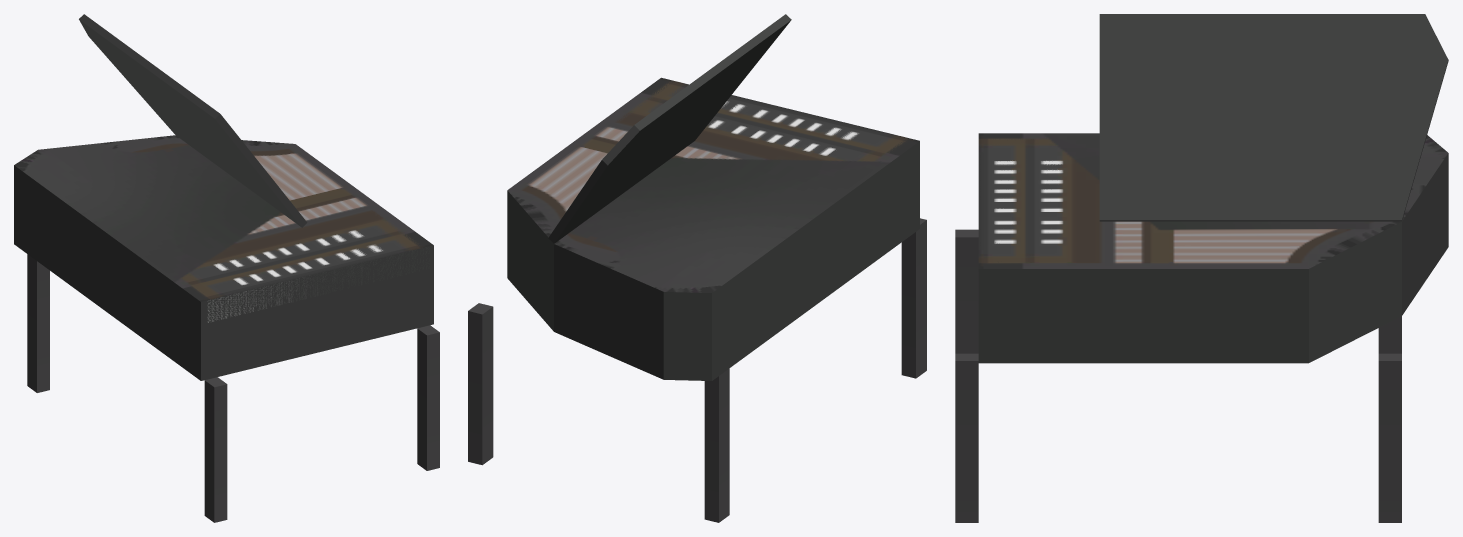
Rendered from Building_Harpsichord.obj.
The picture shows the model from 3 angles, left to right: view 1: azimuth 30°, elevation 25°; view 2: azimuth 150°, elevation 25°; view 3: azimuth 270°, elevation 25°; orthographic projection. The views are drawn at different scales.
Parts seen in each view (by area): view 1: Body; view 2: Body; view 3: Body.
Boxes of the visible parts, <box> form: Body: <box>14,14,439,522</box>; Body: <box>468,14,926,522</box>; Body: <box>955,14,1448,522</box>.
Size of the model in its own units: 1.08 by 1.54 by 1.66.
Materials: 1 (1 with a texture image).
